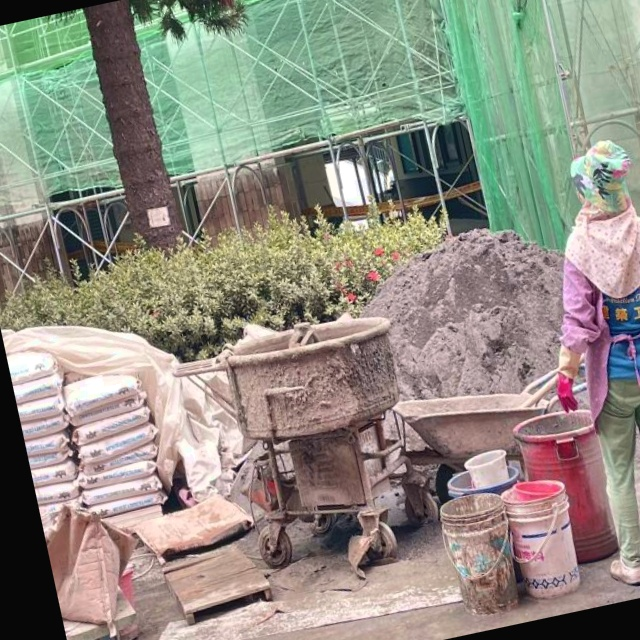Sin_Casco_Mascarrilla: (564, 135, 637, 215)
Sin_Chaleco: (564, 209, 640, 407)
